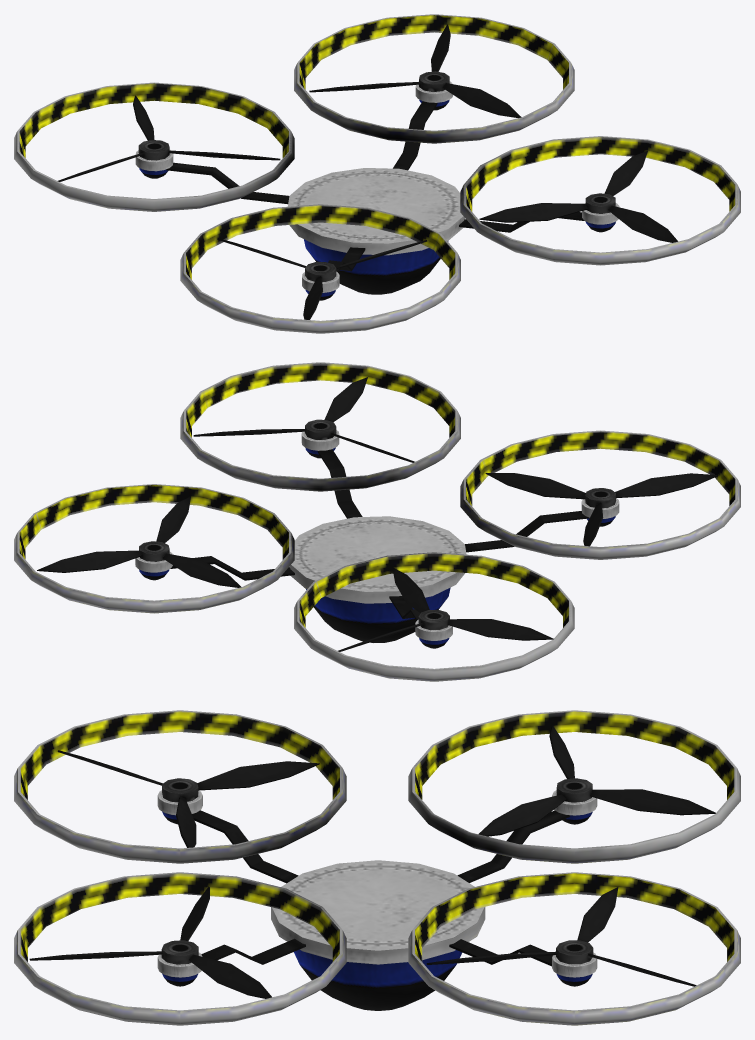
File: quadcopter.dae
3 views of the same model, one above another, from view 1: azimuth 30°, elevation 25°; view 2: azimuth 150°, elevation 25°; view 3: azimuth 270°, elevation 25° (orthographic). The views are drawn at different scales.
Visible parts, largest first — view 1: Quadcopter; view 2: Quadcopter; view 3: Quadcopter.
Boxes of the visible parts, x1,y1,x2,y2 form: Quadcopter: (14, 14, 740, 333); Quadcopter: (14, 362, 740, 681); Quadcopter: (14, 710, 740, 1025).
Bounding box in the file's own units: 1.42 × 1.43 × 0.3077.
Materials: 1 (1 with a texture image).
